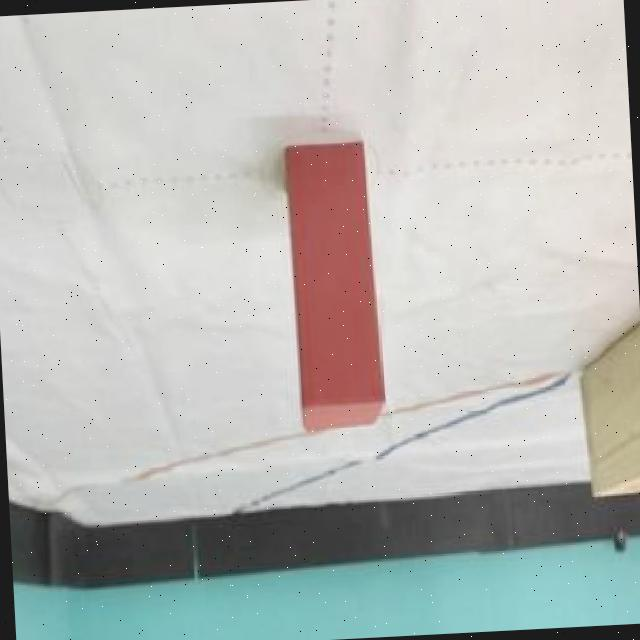redbox: (287, 139, 386, 437)
